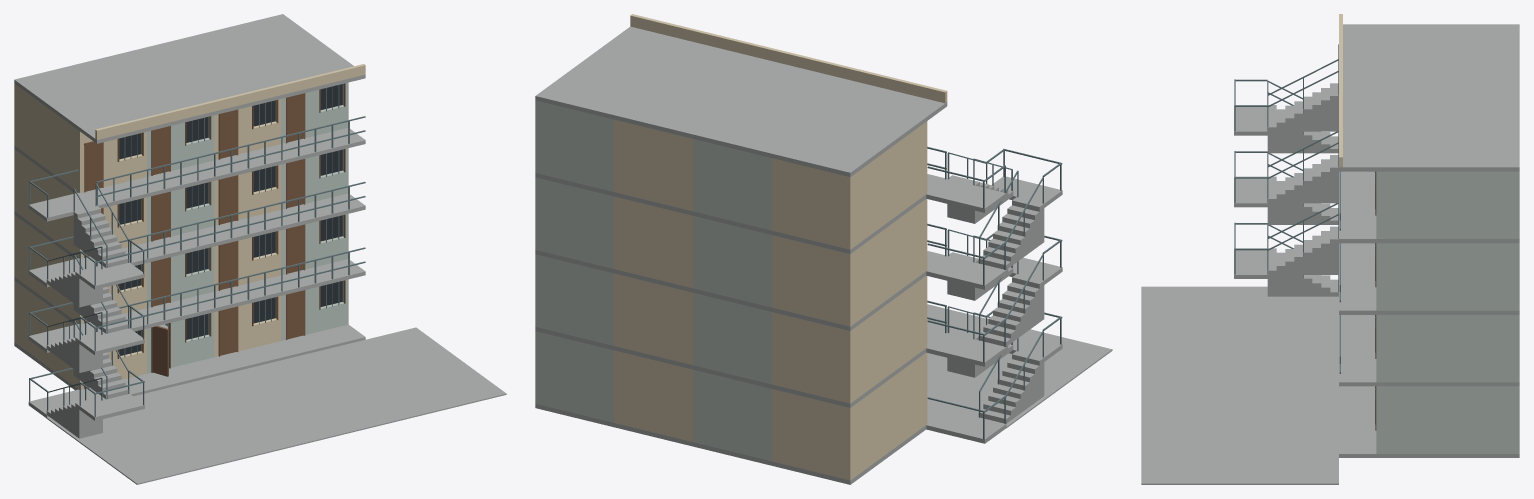
The picture shows the model from 3 angles, left to right: view 1: azimuth 30°, elevation 25°; view 2: azimuth 150°, elevation 25°; view 3: azimuth 270°, elevation 25°; orthographic projection. The views are drawn at different scales.
Parts seen in each view (by area): view 1: gallery_forecourt, gallery_roof_slab, gallery_f03_b00_left_wall, gallery_roof_parapet, gallery_f02_b00_left_wall, gallery_f00_b00_left_wall, gallery_f01_b00_left_wall, gallery_f03_b00_floor, gallery_f00_b02_floor, gallery_f00_b03_floor, gallery_f03_b02_floor, gallery_f02_b01_floor (+64 smaller); view 2: gallery_roof_slab, gallery_forecourt, gallery_f02_b00_back_wall, gallery_f03_b00_back_wall, gallery_f01_b00_back_wall, gallery_f00_b00_back_wall, gallery_f00_b01_back_wall, gallery_f03_b02_back_wall, gallery_f01_b01_back_wall, gallery_f02_b02_back_wall, gallery_f02_b03_back_wall, gallery_f01_b02_back_wall (+25 smaller); view 3: gallery_forecourt, gallery_roof_slab, gallery_f02_b03_right_wall, gallery_f03_b03_right_wall, gallery_f01_b03_right_wall, gallery_f00_b03_right_wall, gallery_f03_b03_floor, gallery_f01_b03_floor, gallery_f02_b03_floor, gallery_f00_b03_floor, gallery_stair_floor_1_return_support, gallery_stair_floor_2_return_support (+12 smaller).
Boxes of the visible parts, x1=… form: gallery_forecourt: x1=46, y1=327, x2=506, y2=484; gallery_roof_slab: x1=14, y1=14, x2=365, y2=143; gallery_f03_b00_left_wall: x1=14, y1=83, x2=78, y2=192; gallery_roof_parapet: x1=95, y1=64, x2=365, y2=139; gallery_f02_b00_left_wall: x1=14, y1=149, x2=78, y2=257; gallery_f00_b00_left_wall: x1=14, y1=280, x2=78, y2=388; gallery_f01_b00_left_wall: x1=14, y1=215, x2=78, y2=323; gallery_f03_b00_floor: x1=14, y1=145, x2=164, y2=208; gallery_f00_b02_floor: x1=214, y1=341, x2=298, y2=372; gallery_f00_b03_floor: x1=282, y1=324, x2=365, y2=355; gallery_f03_b02_floor: x1=215, y1=144, x2=298, y2=176; gallery_f02_b01_floor: x1=148, y1=226, x2=231, y2=258; gallery_roof_slab: x1=535, y1=26, x2=947, y2=177; gallery_forecourt: x1=927, y1=304, x2=1112, y2=428; gallery_f02_b00_back_wall: x1=771, y1=235, x2=852, y2=326; gallery_f03_b00_back_wall: x1=771, y1=158, x2=852, y2=249; gallery_f01_b00_back_wall: x1=771, y1=312, x2=852, y2=403; gallery_f00_b00_back_wall: x1=771, y1=389, x2=852, y2=480; gallery_f00_b01_back_wall: x1=693, y1=369, x2=771, y2=461; gallery_f03_b02_back_wall: x1=614, y1=119, x2=692, y2=211; gallery_f01_b01_back_wall: x1=693, y1=293, x2=771, y2=384; gallery_f02_b02_back_wall: x1=614, y1=196, x2=692, y2=288; gallery_f02_b03_back_wall: x1=535, y1=177, x2=613, y2=268; gallery_f01_b02_back_wall: x1=614, y1=273, x2=692, y2=364; gallery_forecourt: x1=1141, y1=286, x2=1338, y2=484; gallery_roof_slab: x1=1339, y1=24, x2=1519, y2=171; gallery_f02_b03_right_wall: x1=1378, y1=243, x2=1519, y2=310; gallery_f03_b03_right_wall: x1=1378, y1=171, x2=1519, y2=238; gallery_f01_b03_right_wall: x1=1378, y1=315, x2=1519, y2=382; gallery_f00_b03_right_wall: x1=1378, y1=386, x2=1519, y2=453; gallery_f03_b03_floor: x1=1339, y1=203, x2=1519, y2=243; gallery_f01_b03_floor: x1=1339, y1=346, x2=1519, y2=386; gallery_f02_b03_floor: x1=1339, y1=275, x2=1519, y2=314; gallery_f00_b03_floor: x1=1339, y1=418, x2=1519, y2=457; gallery_stair_floor_1_return_support: x1=1268, y1=168, x2=1338, y2=203; gallery_stair_floor_2_return_support: x1=1268, y1=96, x2=1338, y2=131.
Size of the model in its own units: 16.5 by 11.76 by 13.4.
